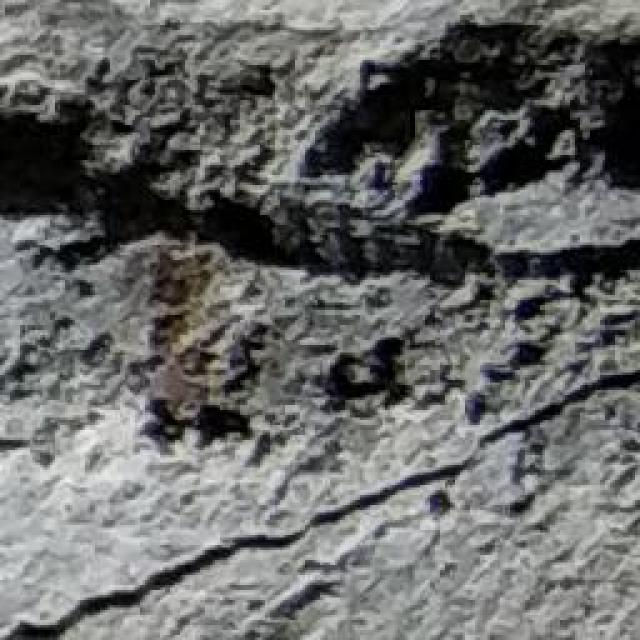Diagonal: (5, 455, 453, 640), (459, 365, 640, 480)
Rippled: (0, 0, 640, 354), (29, 363, 427, 446)
